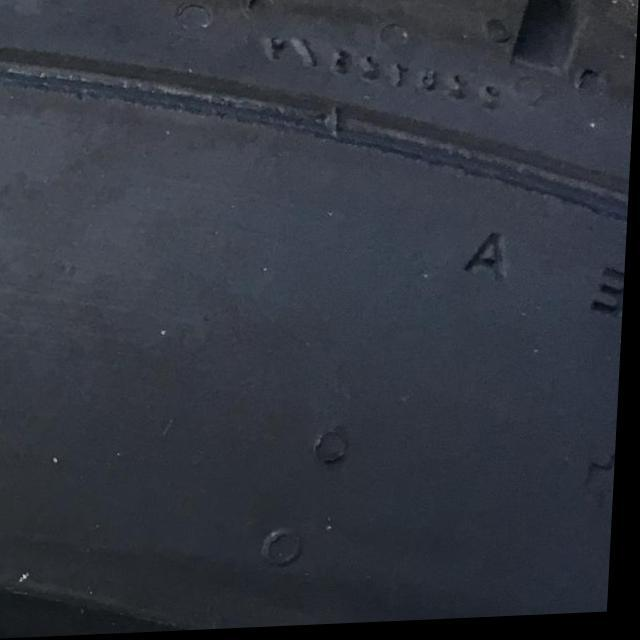Non-defective: (0, 0, 621, 638)
